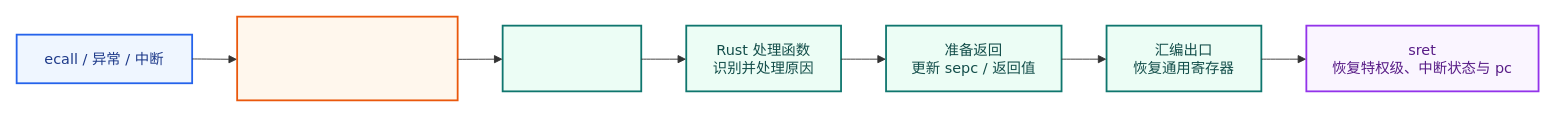
This 1554x116 diagram has some shape labels left out. Each missing label, with the centre of its shape:
"汇编入口 保存 x1～x31" belongs at point (571, 58).
"硬件进入 Trap 写入 sepc / scause / stval 更新 sstatus，pc = stvec" belongs at point (347, 58).
